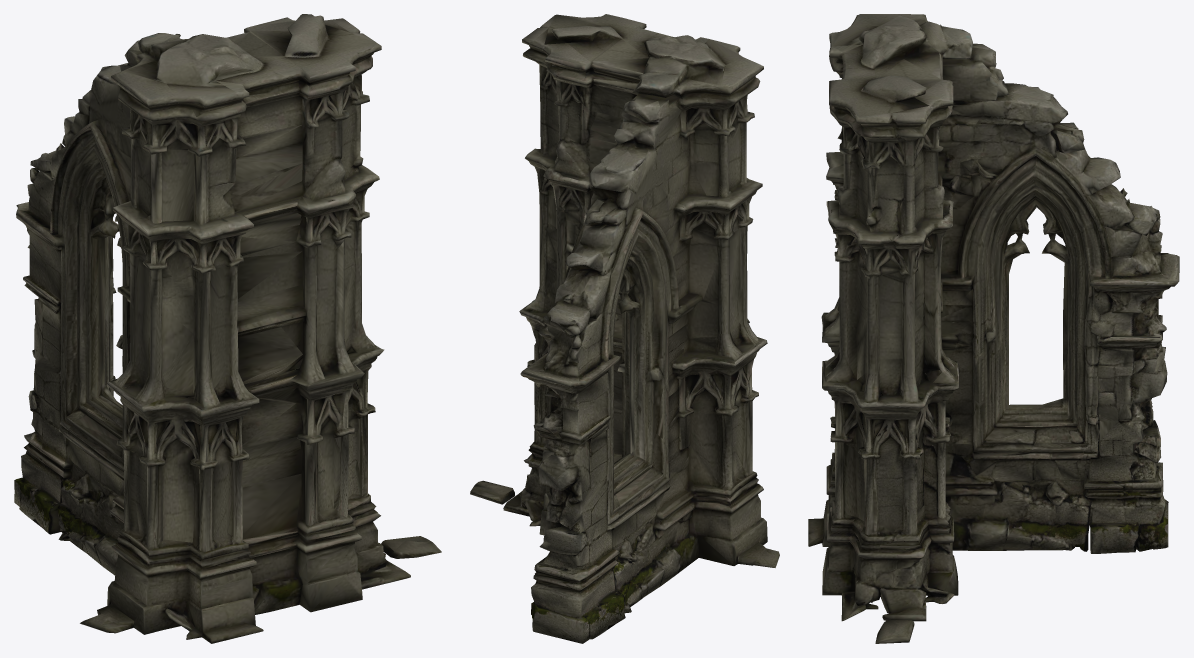
The model's file is CW_HF_GothicButtress_LOD1.fbx.
The picture shows the model from 3 angles, left to right: view 1: azimuth 30°, elevation 25°; view 2: azimuth 150°, elevation 25°; view 3: azimuth 270°, elevation 25°; orthographic projection. The views are drawn at different scales.
Parts seen in each view (by area): view 1: CW_HF_GothicButtress_LOD1; view 2: CW_HF_GothicButtress_LOD1; view 3: CW_HF_GothicButtress_LOD1.
Part boxes in pixels (x1,y1,x2,y2): CW_HF_GothicButtress_LOD1: (14,14,441,643); CW_HF_GothicButtress_LOD1: (470,14,779,643); CW_HF_GothicButtress_LOD1: (808,14,1179,643).
Bounding box in the file's own units: 3.25 × 5 × 3.28.
1 material, 1 textured.
